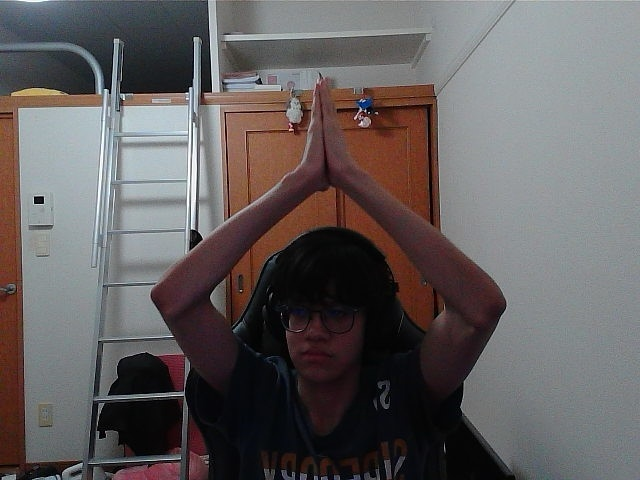pray: (316, 102, 349, 179)
